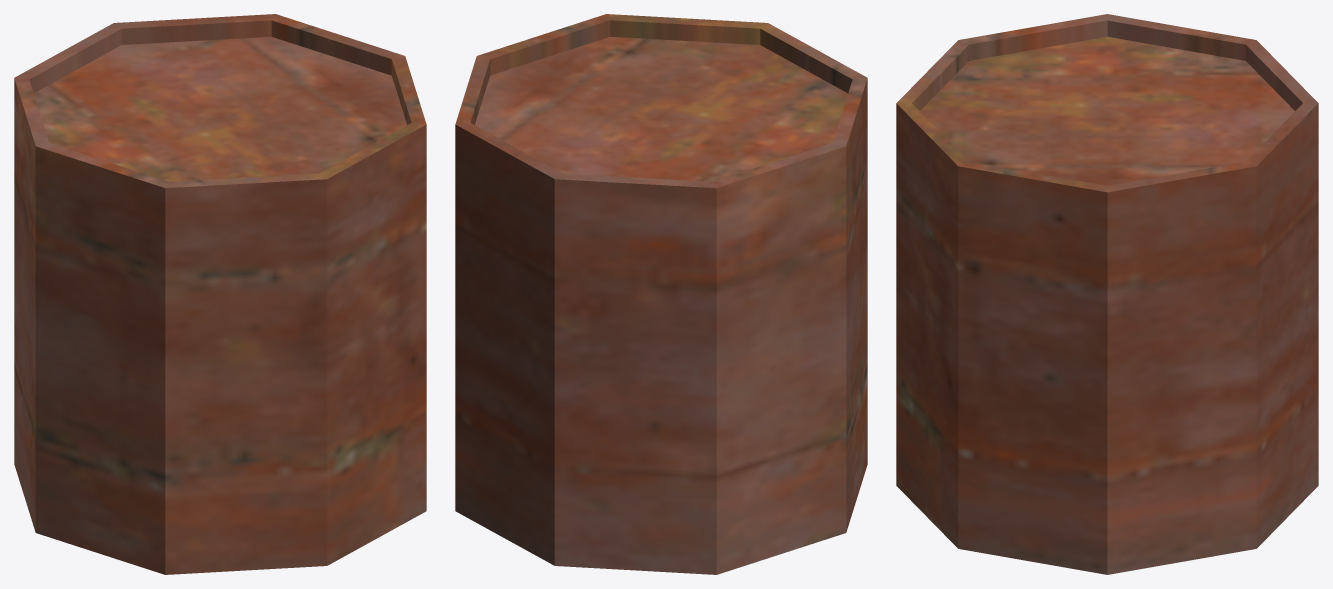
The model's file is Barril.fbx.
The picture shows the model from 3 angles, left to right: view 1: azimuth 30°, elevation 25°; view 2: azimuth 150°, elevation 25°; view 3: azimuth 270°, elevation 25°; orthographic projection.
Visible parts, largest first — view 1: Cylinder; view 2: Cylinder; view 3: Cylinder.
Part boxes in pixels (<box>): Cylinder: <box>14,14,426,574</box>; Cylinder: <box>455,14,867,574</box>; Cylinder: <box>896,14,1318,574</box>.
Bounding box in the file's own units: 200 × 200 × 200.
1 material, 1 textured.
